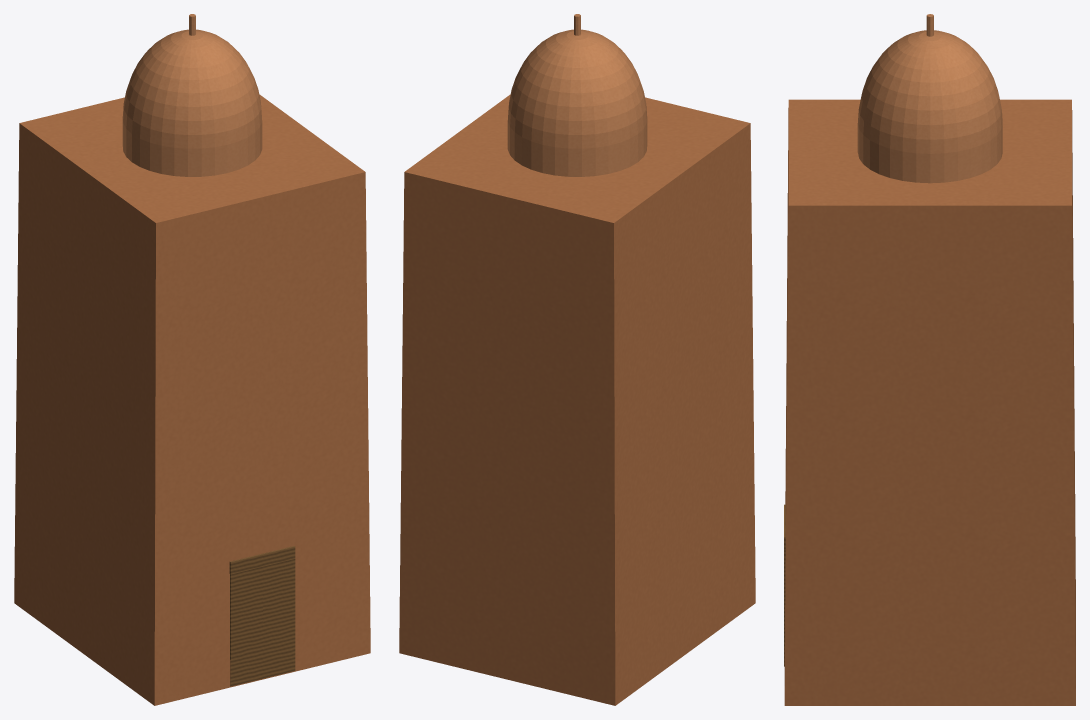
The model's file is SM_Souq_Warehouse_W4D45_Dome.fbx.
3 views of the same model, side by side, from view 1: azimuth 30°, elevation 25°; view 2: azimuth 150°, elevation 25°; view 3: azimuth 270°, elevation 25° (orthographic). The views are drawn at different scales.
Parts seen in each view (by area): view 1: SM_Souq_Warehouse_W4D45_Dome; view 2: SM_Souq_Warehouse_W4D45_Dome; view 3: SM_Souq_Warehouse_W4D45_Dome.
Boxes of the visible parts, x1,y1,x2,y2 form: SM_Souq_Warehouse_W4D45_Dome: (14, 14, 370, 705); SM_Souq_Warehouse_W4D45_Dome: (399, 14, 755, 705); SM_Souq_Warehouse_W4D45_Dome: (784, 14, 1075, 705).
Bounding box in the file's own units: 400 × 1084 × 451.
Materials: 3 (3 with a texture image).
